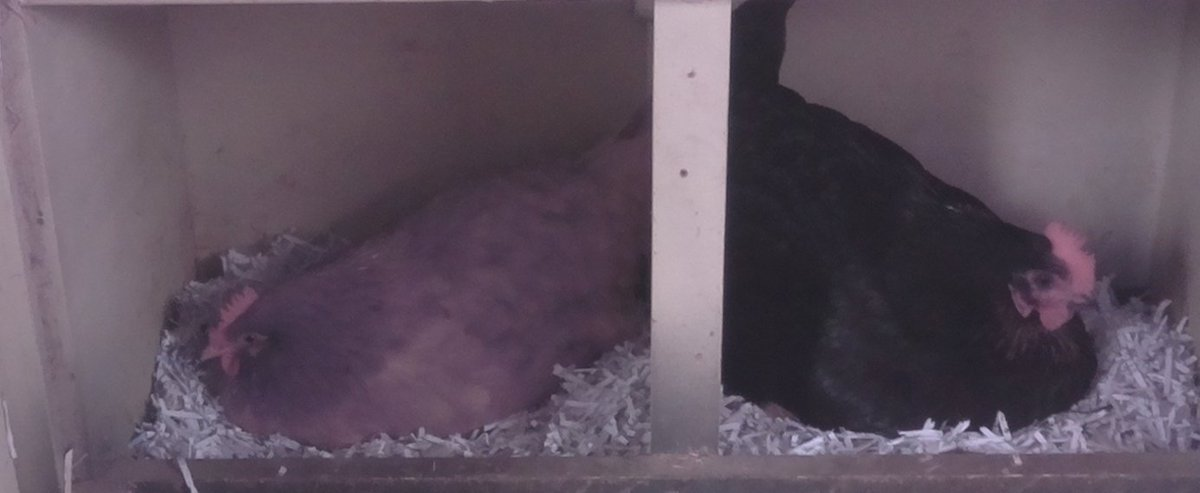hen: (195, 84, 649, 452), (730, 49, 1107, 443)
